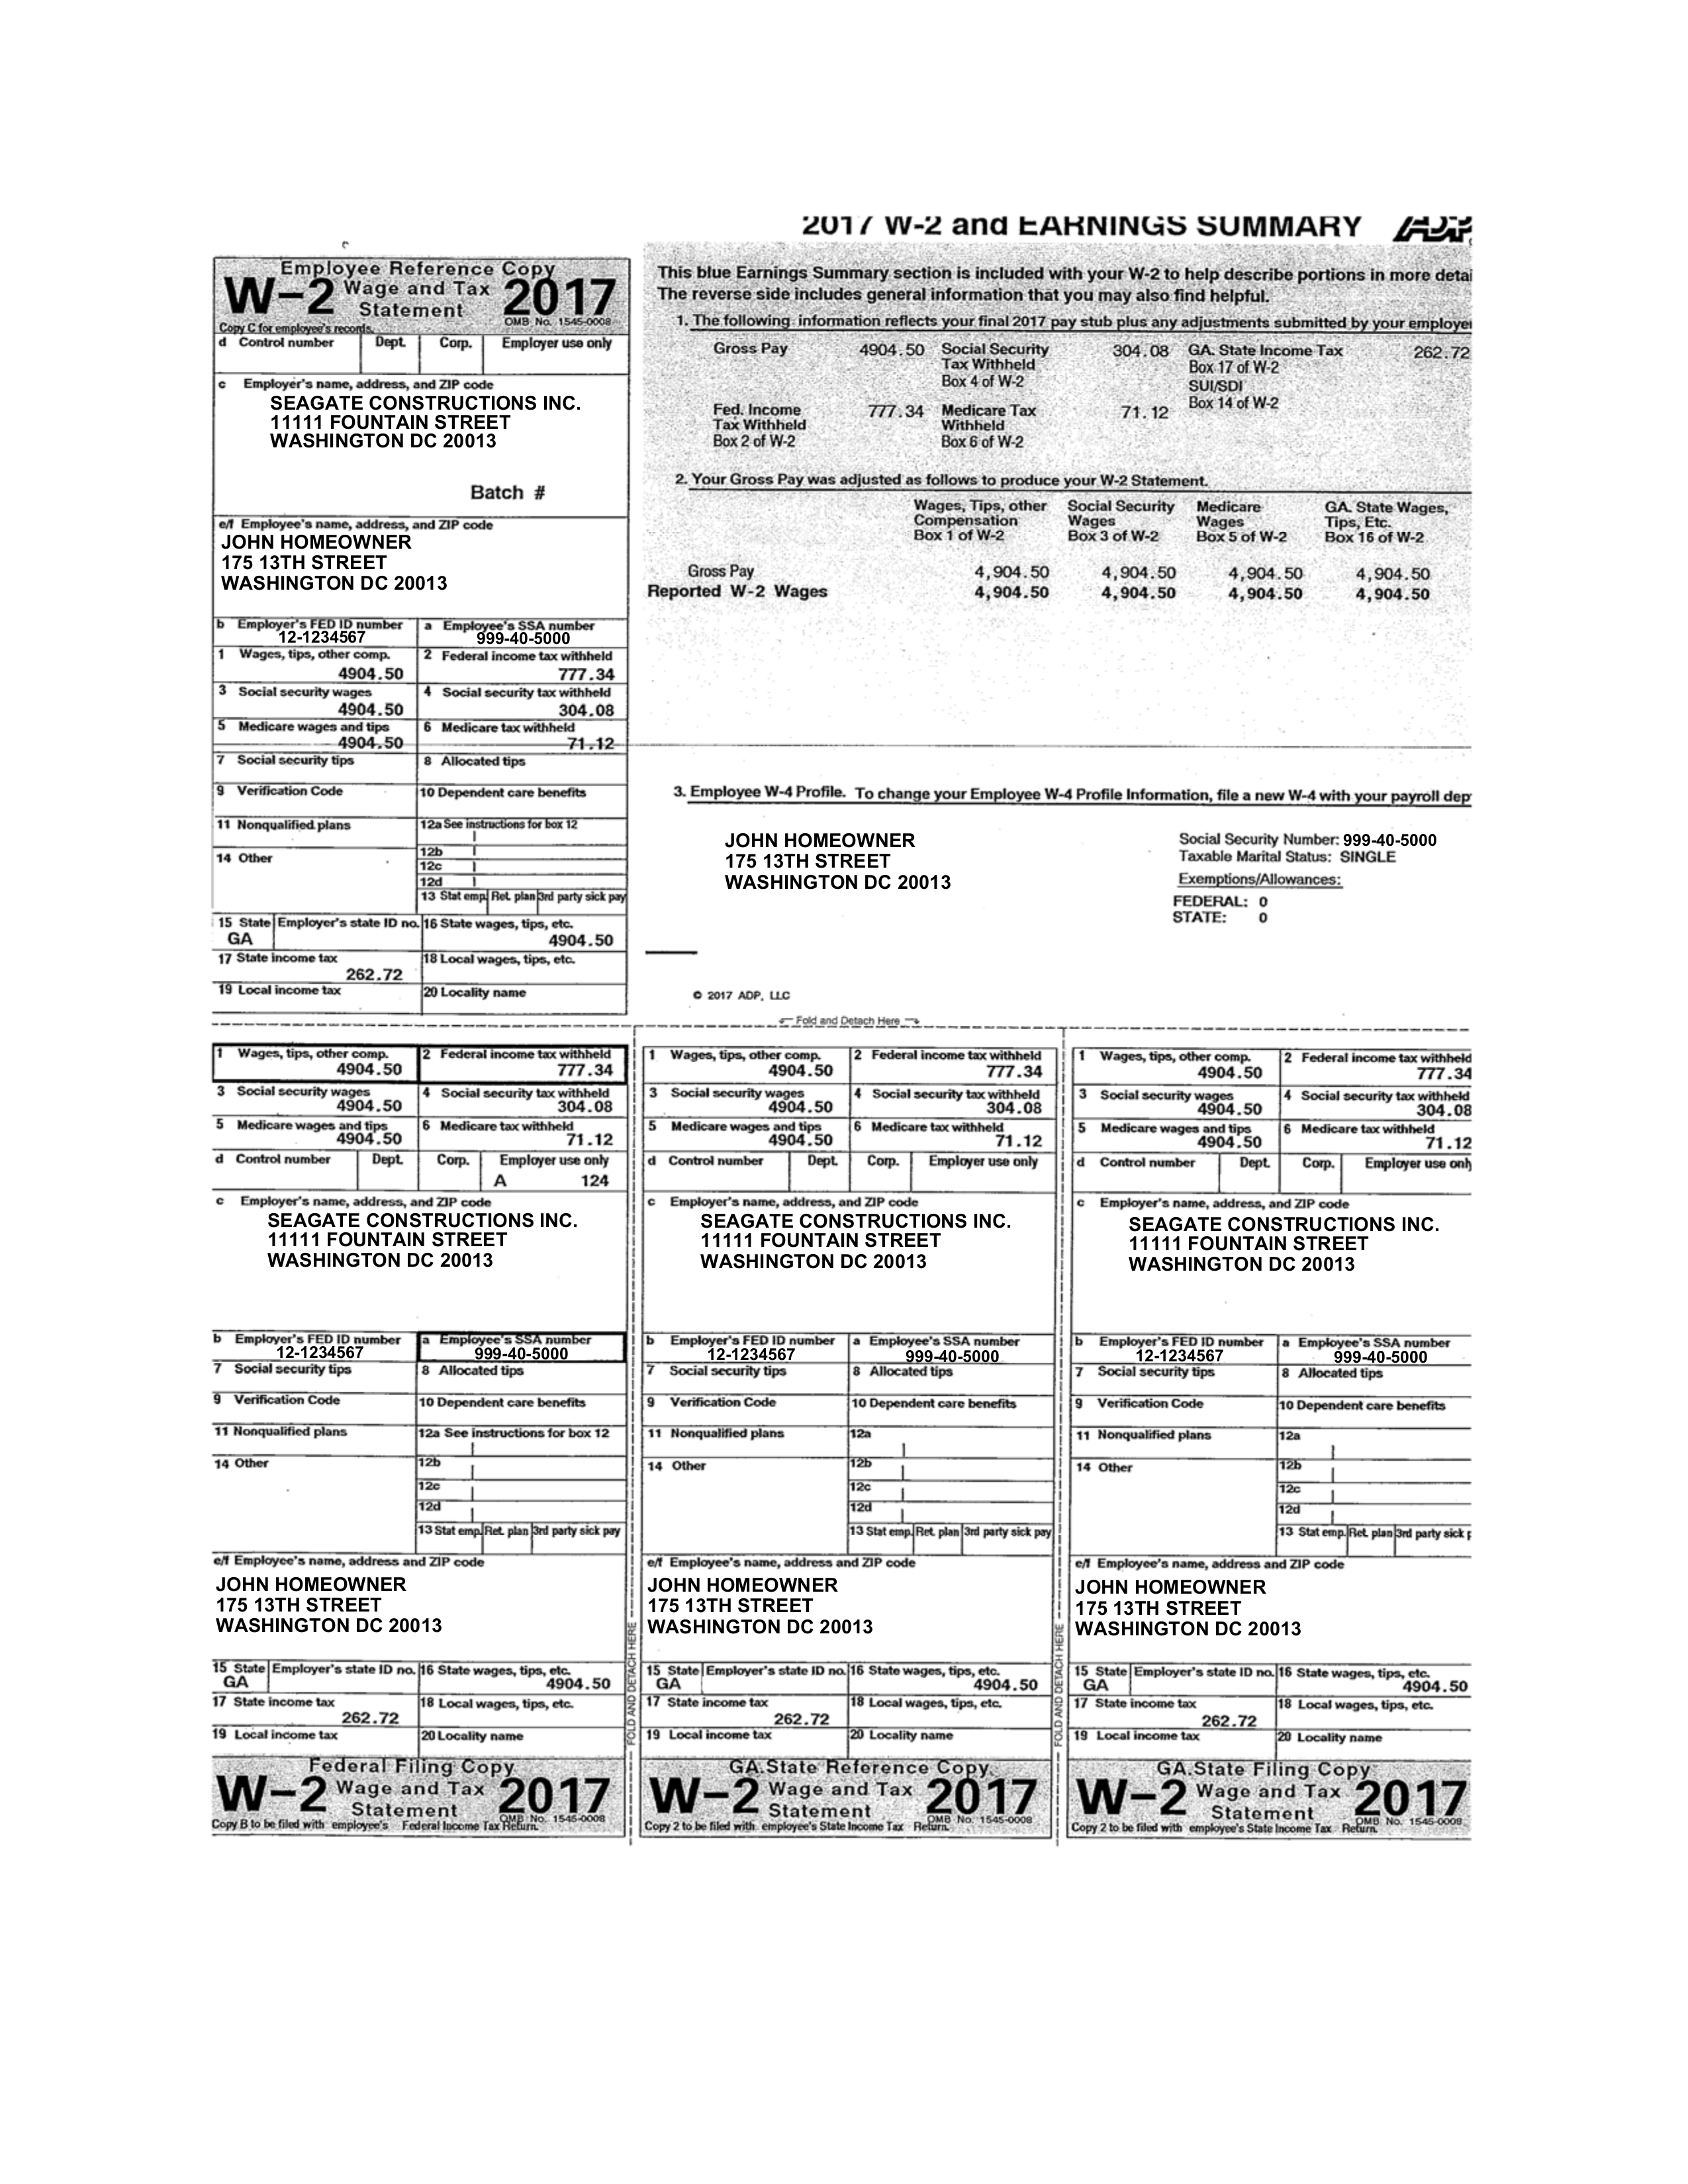table: (1071, 1048, 1482, 1838), (215, 1044, 624, 1837), (644, 1046, 1053, 1837), (213, 259, 628, 1014)
